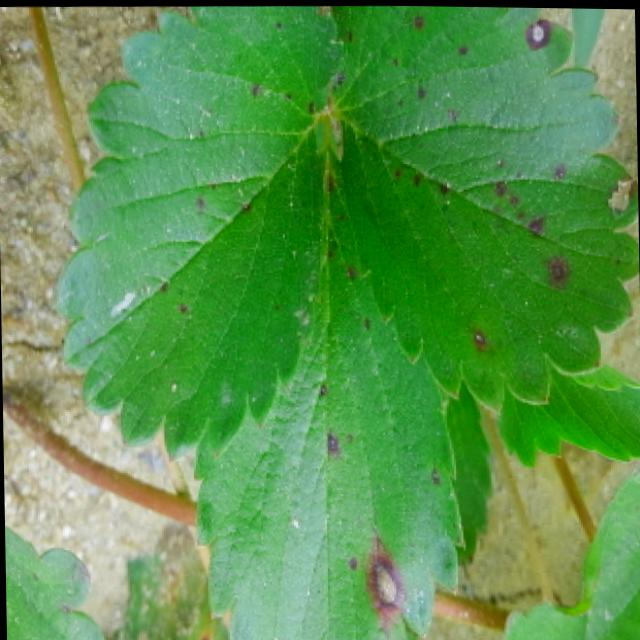Leaf Spot: (190, 148, 466, 640), (49, 4, 342, 461), (327, 4, 639, 411), (3, 519, 105, 640)
